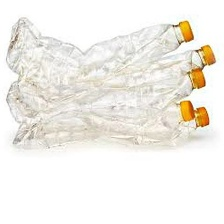bottle: (4, 14, 202, 84), (9, 44, 221, 98), (5, 67, 209, 122), (4, 104, 211, 151), (12, 99, 197, 129)
